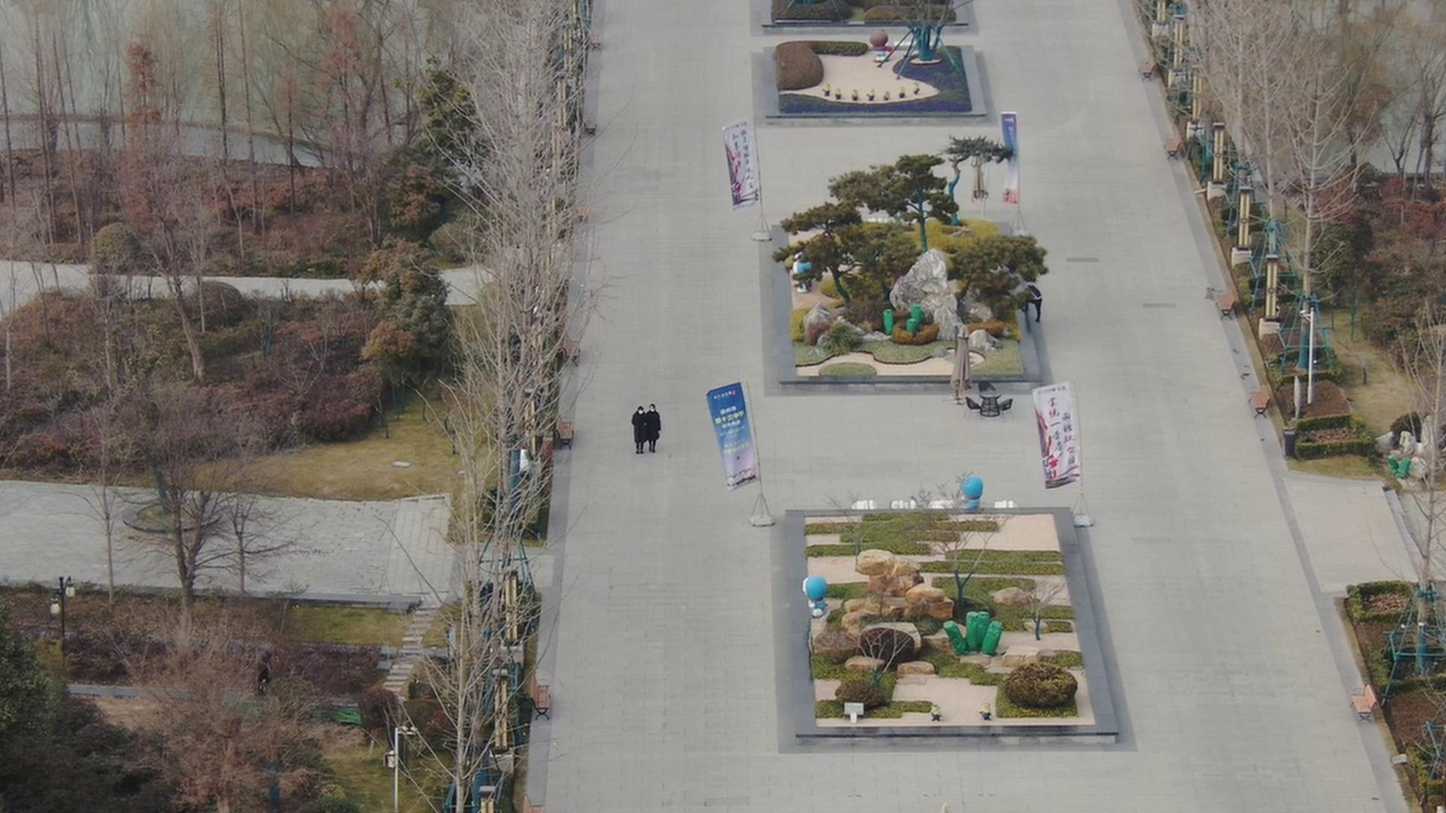class_2: (623, 400, 666, 461)
human: (251, 656, 280, 699)
